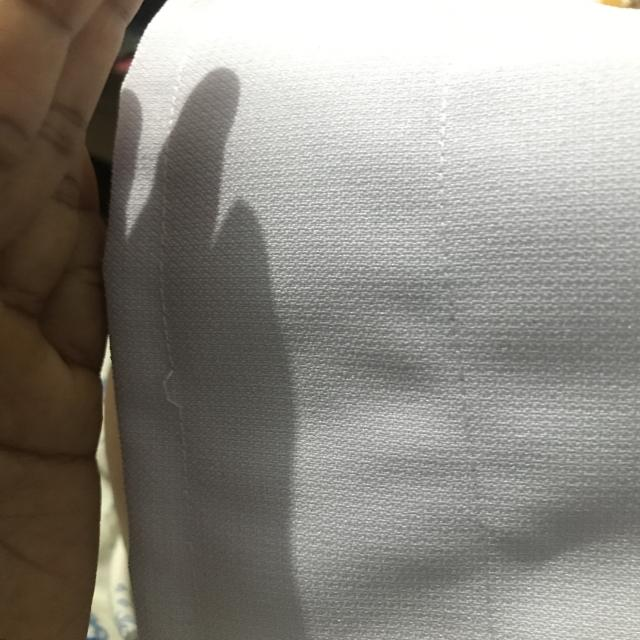good: (153, 216, 191, 335)
skip: (151, 357, 207, 424)
